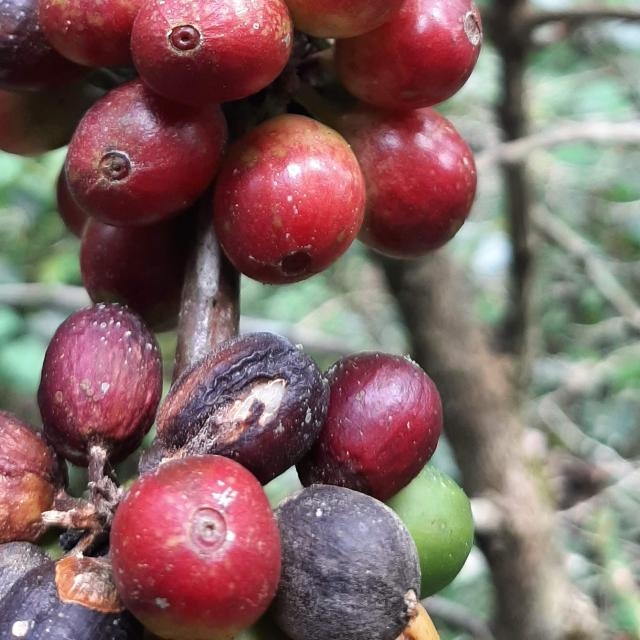green: (387, 466, 474, 599)
red: (110, 456, 281, 640), (139, 333, 329, 485), (214, 114, 366, 284), (64, 78, 226, 226), (271, 486, 422, 640), (297, 352, 443, 502), (337, 104, 478, 258), (37, 304, 162, 466), (130, 0, 293, 104), (334, 0, 483, 109), (79, 210, 192, 332), (0, 556, 141, 640), (0, 412, 66, 545), (0, 79, 104, 155), (38, 0, 143, 66), (284, 0, 405, 37)
